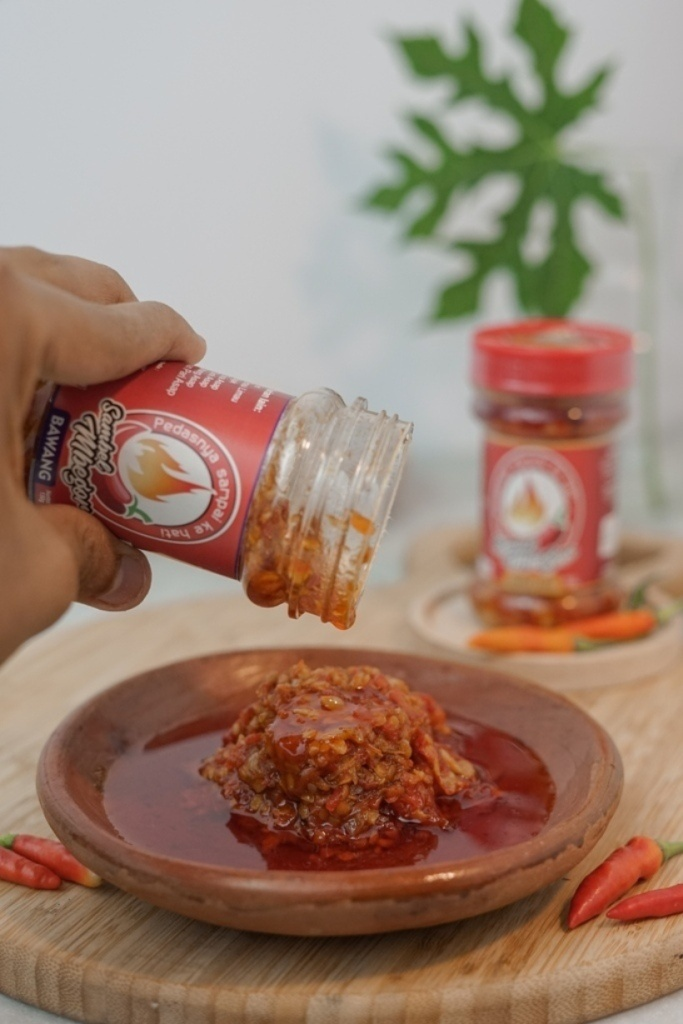sambal: (202, 658, 486, 856)
